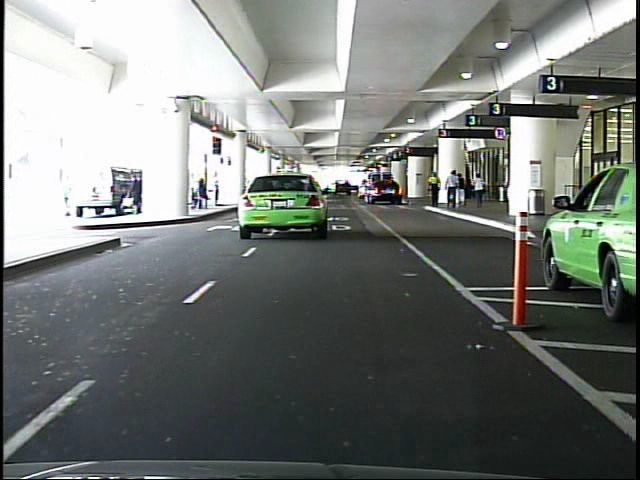person: (470, 168, 490, 214), (443, 164, 461, 211), (426, 166, 445, 210), (456, 172, 469, 212)
